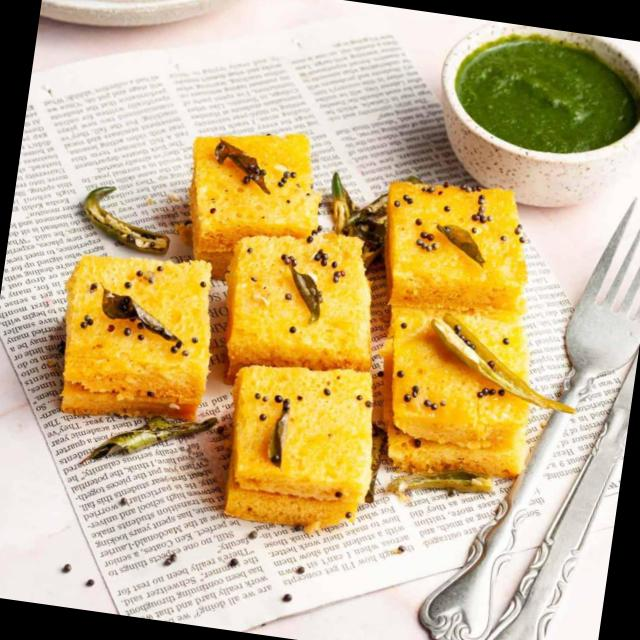dhokla: (44, 94, 564, 568)
